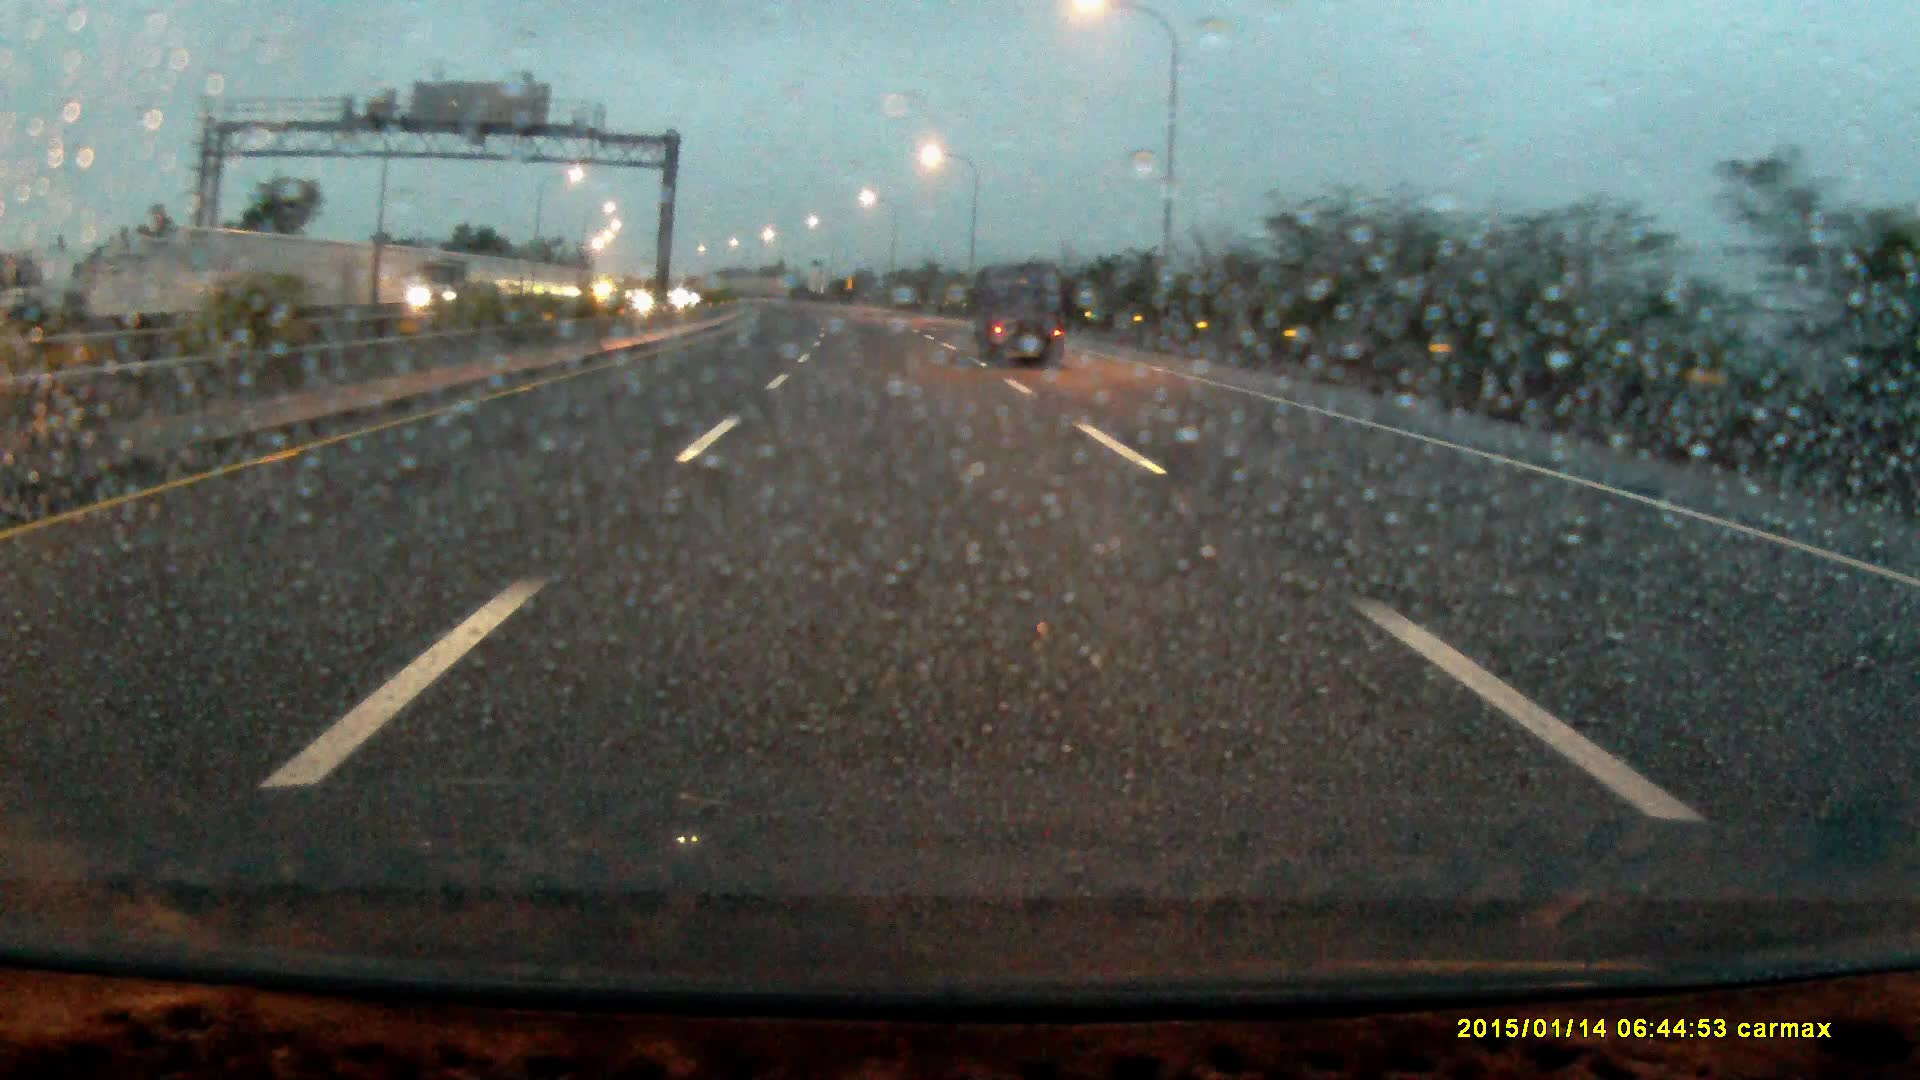vehicle: (976, 269, 1063, 365), (410, 255, 516, 318)
